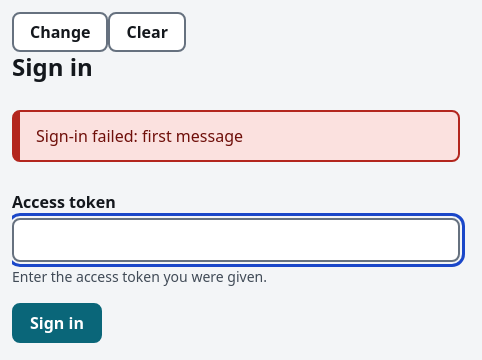
Scenario: sign-in view: the alert depends on the error it is given › shows whatever message it is given, prefixed, and drops the alert when the error goes
Expected: the message reads "Sign-in failed: first message", [36, 125, 243, 147]
Click the button "Change" at (60, 32), box [12, 12, 108, 52]
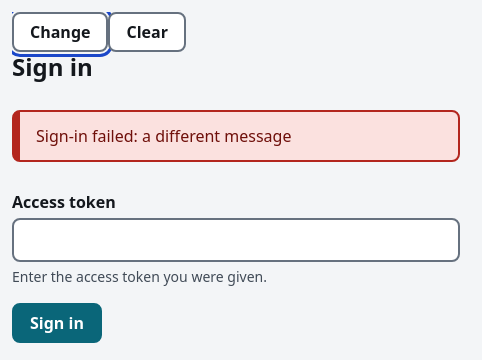
Expected: the message reads "Sign-in failed: a different message", [36, 125, 292, 147]
Click the button "Clear" at (147, 32), box [108, 12, 186, 52]
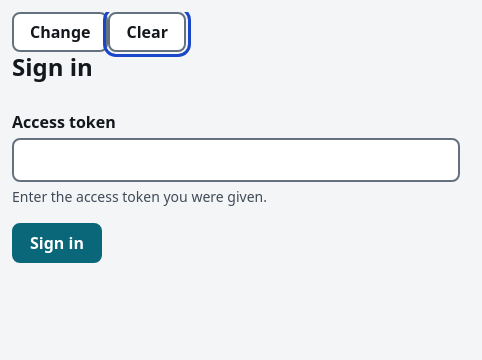
Expected: the message "Sign-in failed: a different message" is gone
